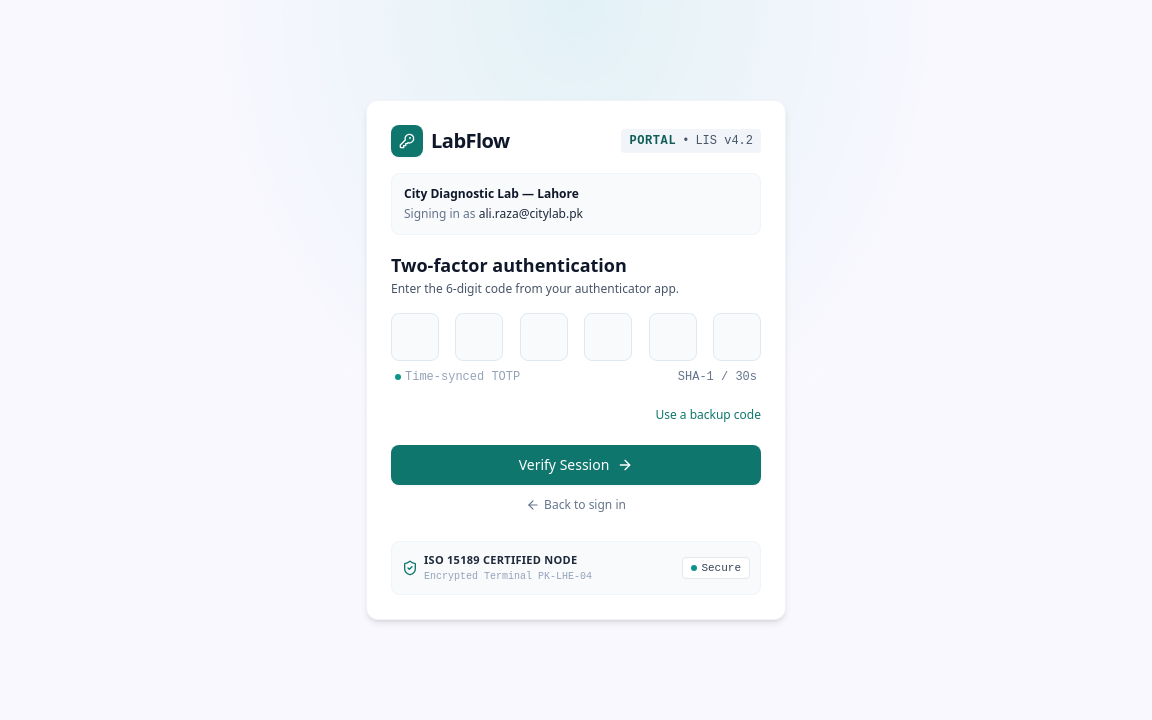
Test: Screen 02: Two-Factor Authentication (02-two-factor-auth.html & Doc 07 §5.1) › Error Handling (Doc 07 §5.1) › shows generic error notice on invalid code failure without revealing details
Click the field named "Digit 1": (415, 337) x1=391 y1=313 x2=439 y2=361
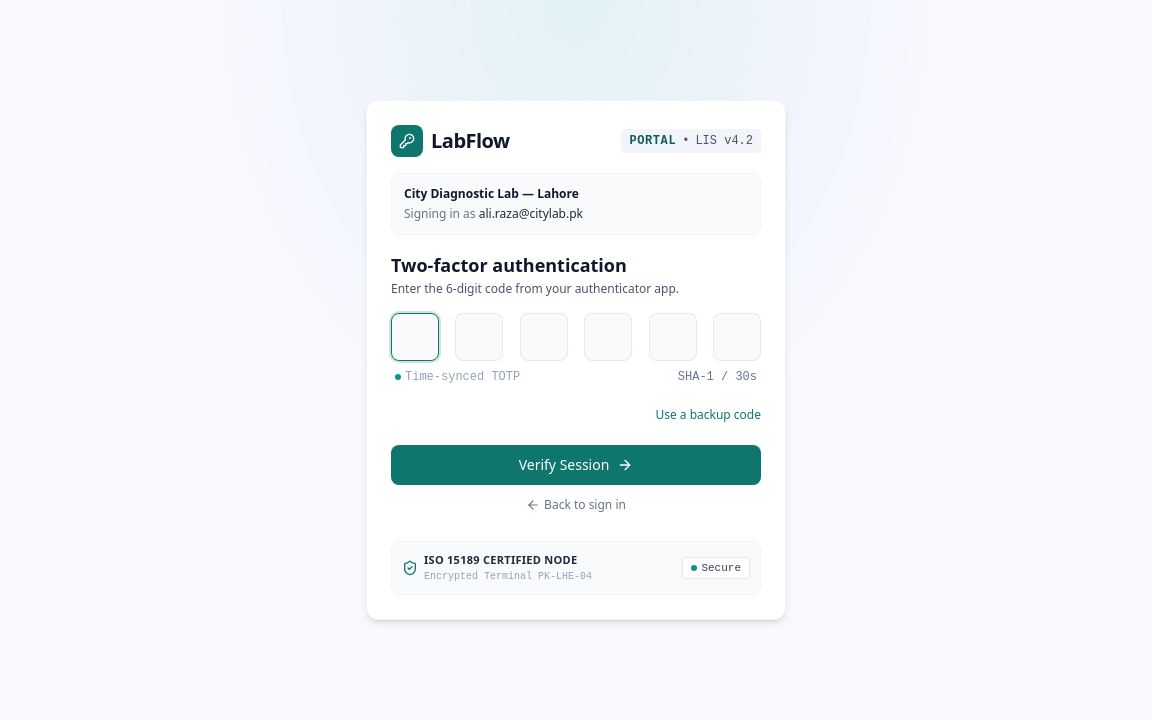
Type keys "000000"
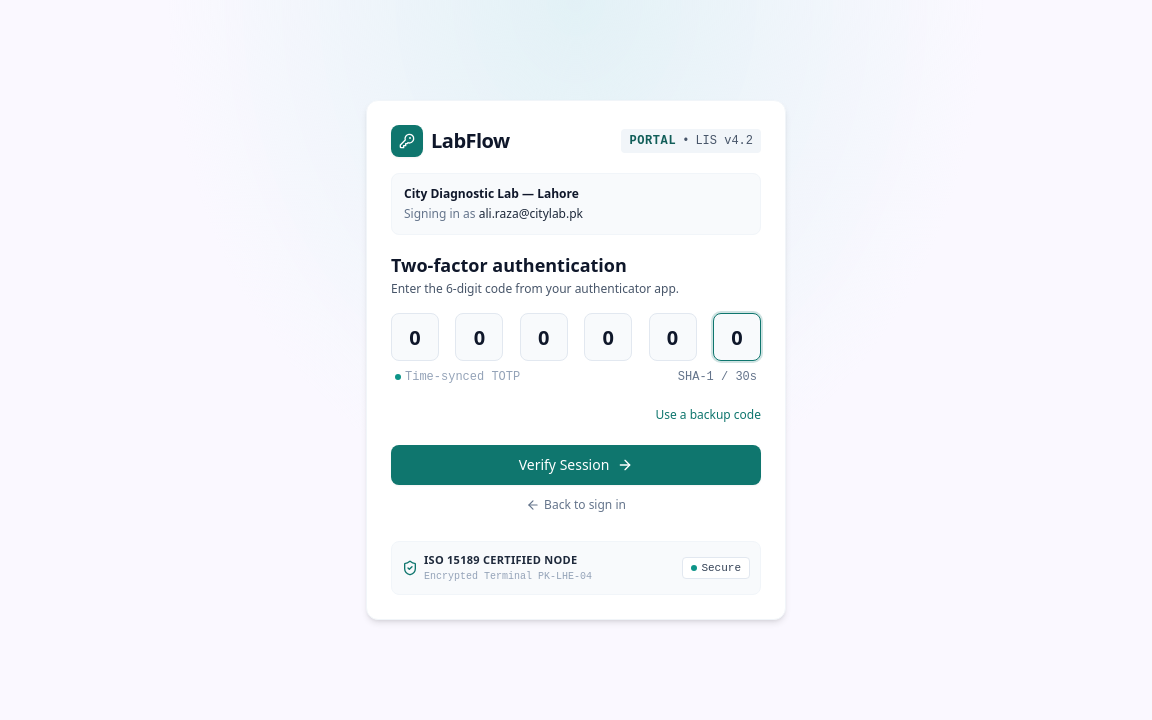
Click the button "Verify Session": (576, 465) x1=391 y1=445 x2=761 y2=485
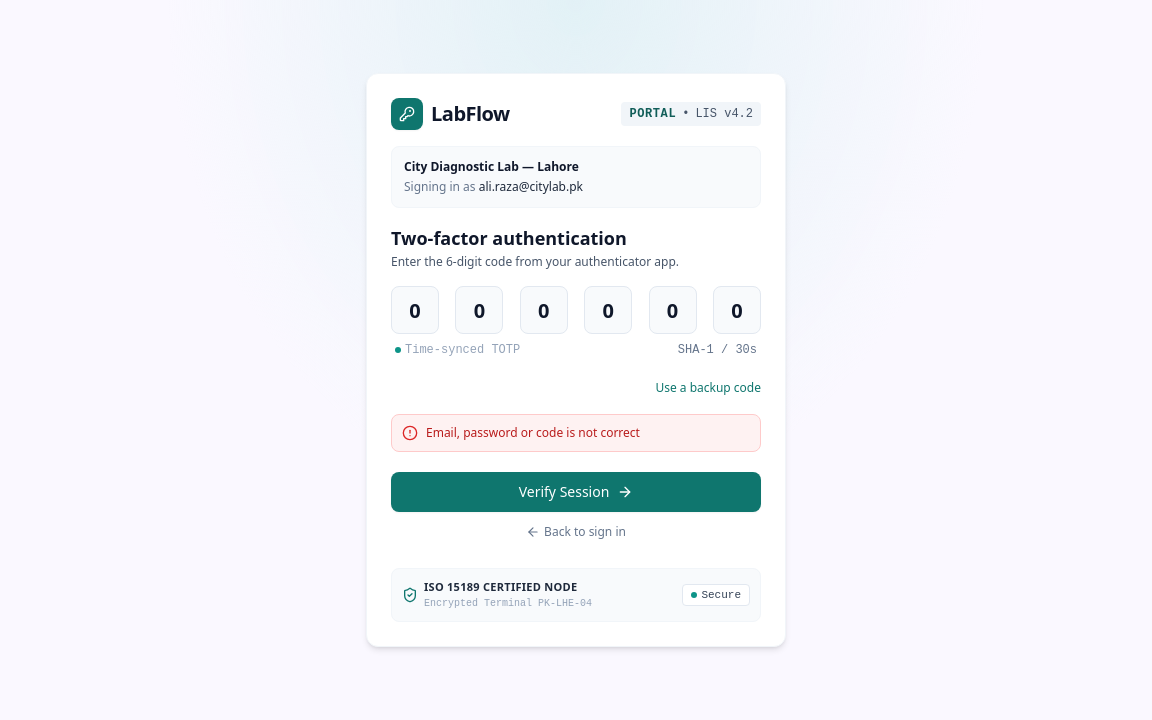
Expected: the button "Verify Session" is enabled, x1=391 y1=472 x2=761 y2=512
Now the message "Email, password or code is not correct" is shown, box x1=391 y1=414 x2=761 y2=452
Now the message reads "Email, password or code is not correct", box x1=426 y1=424 x2=640 y2=441
